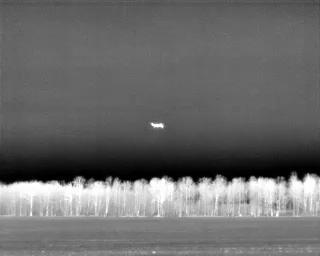DRONE: (147, 117, 168, 134)
